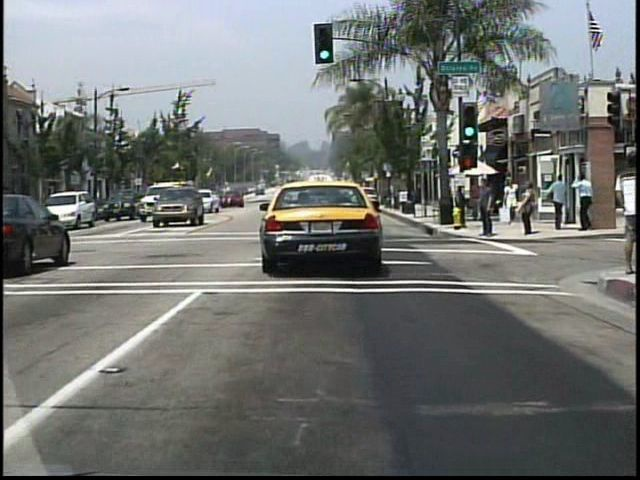person: (608, 150, 638, 276), (571, 170, 597, 232), (547, 172, 567, 233), (478, 180, 497, 240), (467, 177, 487, 226), (518, 183, 536, 235), (503, 178, 521, 228)
